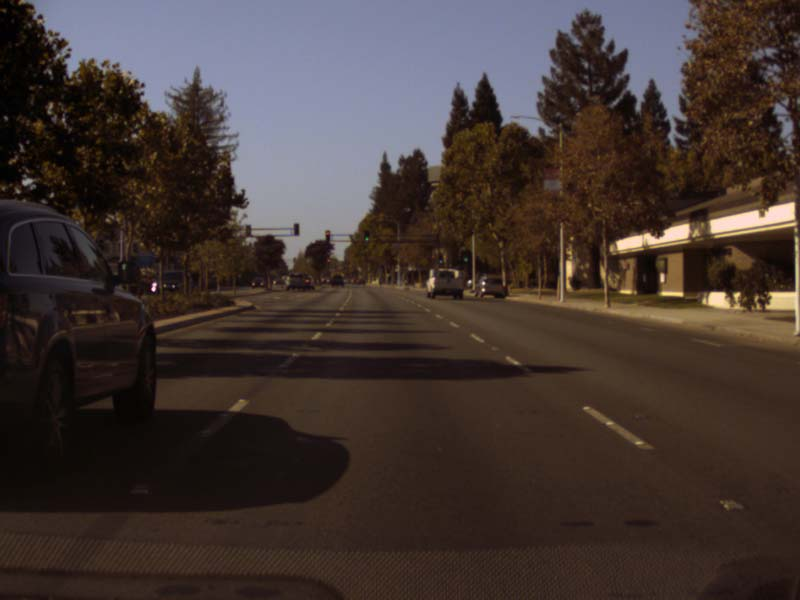Green: (462, 249, 469, 262), (363, 229, 369, 241), (438, 253, 443, 263)
Red: (325, 230, 330, 241), (326, 257, 330, 266)
